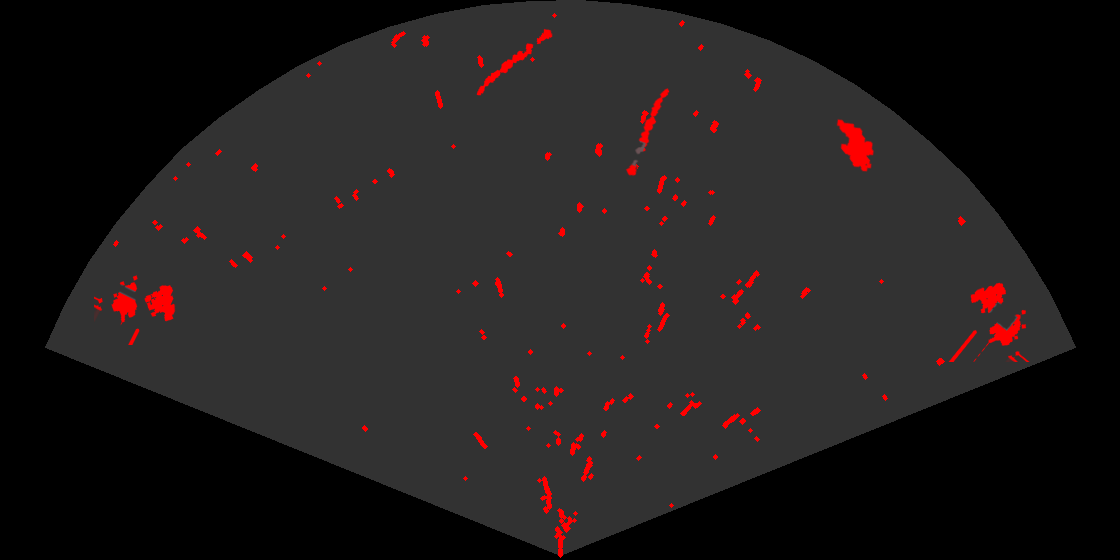AUV: (835, 117, 876, 173)
cage: (947, 281, 1031, 362), (94, 274, 177, 345)
chain: (475, 27, 554, 97), (624, 87, 671, 178)
